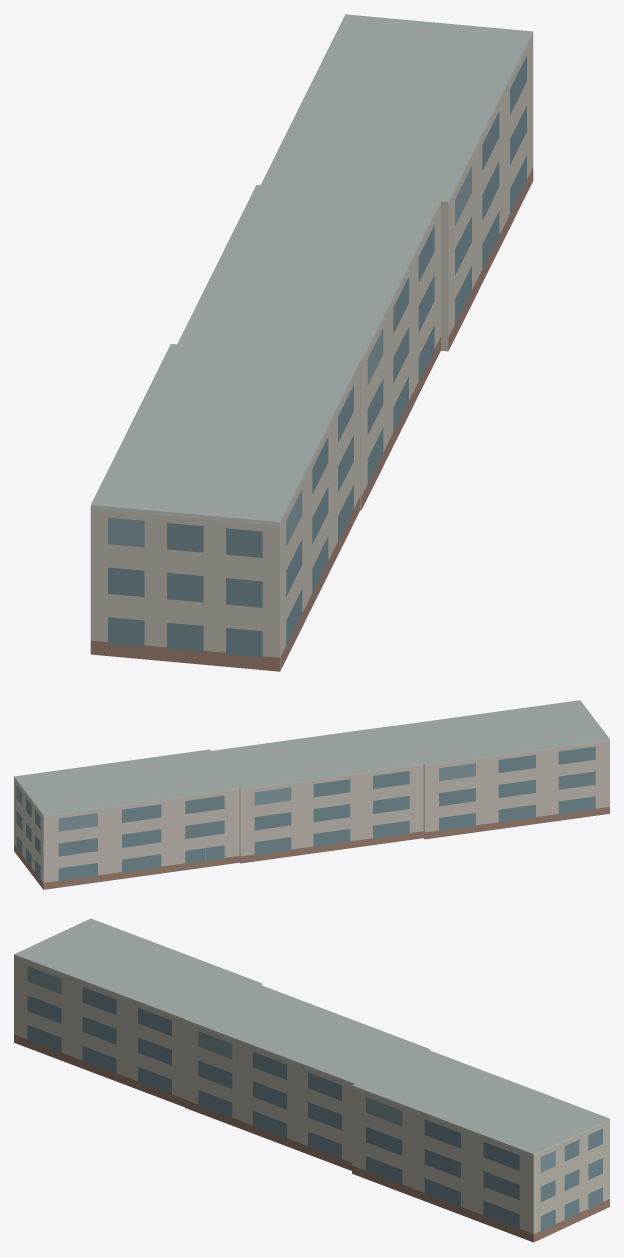
File: survey-upis-32809310.glb
The picture shows the model from 3 angles, top to bottom: view 1: azimuth 30°, elevation 25°; view 2: azimuth 150°, elevation 25°; view 3: azimuth 270°, elevation 25°; orthographic projection. The views are drawn at different scales.
Parts seen in each view (by area): view 1: survey-upis-32809310.tmp; view 2: survey-upis-32809310.tmp; view 3: survey-upis-32809310.tmp.
Part boxes in pixels (left/top/right/bottom): survey-upis-32809310.tmp: left=90, top=14, right=533, bottom=671; survey-upis-32809310.tmp: left=14, top=700, right=609, bottom=889; survey-upis-32809310.tmp: left=14, top=918, right=609, bottom=1242.
Size of the model in its own units: 52.36 by 9.15 by 55.94.
